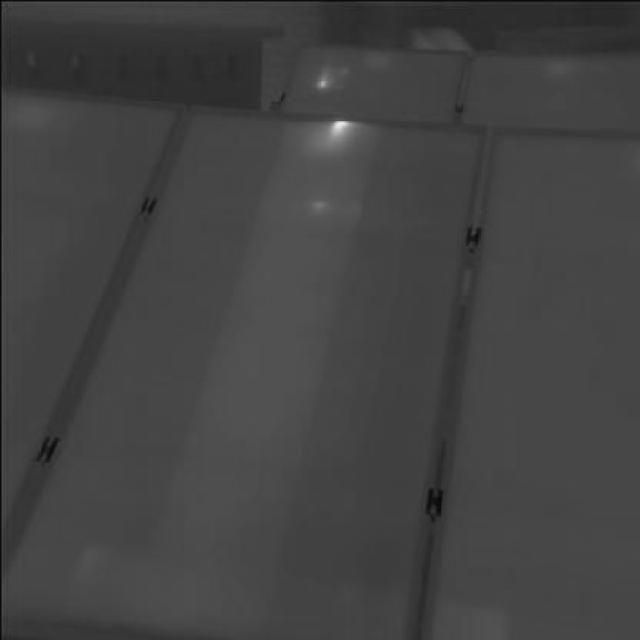hotspot: (312, 119, 352, 152), (311, 64, 351, 91)
